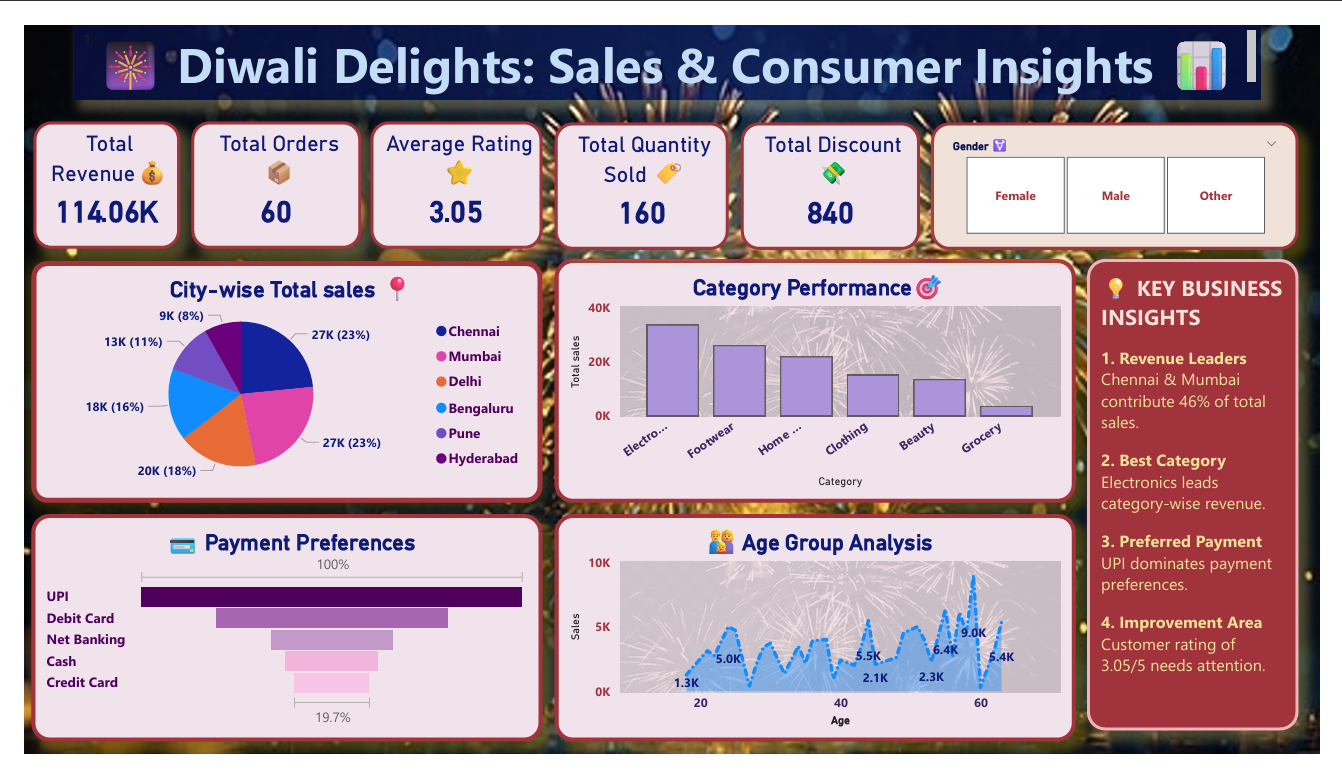

Layout of this report page (visuals, bound fields, positions):
{"tool":"powerbi","page":{"name":"Page 1","canvas":[1280,720],"ordinal":0},"visuals":[{"type":"textbox","box":[48.7,0,1173.4,74.4],"z":0},{"type":"card","title":"Total Revenue💰 ","fields":{"Values":["Sum(Diwali_Ecom_data.Total_Bill)"]},"box":[9.5,94.7,144.8,125.9],"z":1000},{"type":"card","title":"Total Orders 📦","fields":{"Values":["Count(Diwali_Ecom_data.Order_ID)"]},"box":[165.1,94.7,167.8,125.9],"z":2000},{"type":"card","title":"Average Rating ⭐","fields":{"Values":["Avg(Diwali_Ecom_data.Rating)"]},"box":[342.4,94.7,169.2,125.9],"z":3000},{"type":"pieChart","title":"City-wise Total sales 📍","fields":{"Category":["Diwali_Ecom_data.City"],"Y":["Sum(Diwali_Ecom_data.Total_Bill)"]},"box":[6.8,232.8,504.8,239.5],"z":4000},{"type":"funnel","title":"💳 Payment Preferences","fields":{"Category":["Diwali_Ecom_data.Payment_Mode"],"Y":["Sum(Diwali_Ecom_data.Total_Bill)"]},"box":[6.8,483.1,504.8,224.7],"z":5000},{"type":"clusteredColumnChart","title":"Category Performance🎯","fields":{"Y":["Sum(Diwali_Ecom_data.Total_Bill)"],"Category":["Diwali_Ecom_data.Category"]},"box":[523.7,231.4,515.6,240.9],"z":6000},{"type":"stackedAreaChart","title":"👨👩👧 Age Group Analysis","fields":{"Y":["Sum(Diwali_Ecom_data.Total_Bill)"],"Category":["Diwali_Ecom_data.Age"]},"box":[523.7,483.1,515.6,224.7],"z":7000},{"type":"slicer","fields":{"Values":["Diwali_Ecom_data.Gender"]},"box":[895.9,96.1,362.7,125.9],"z":8000},{"type":"card","title":"Total Quantity Sold 🏷️","fields":{"Values":["Sum(Diwali_Ecom_data.Quantity)"]},"box":[523.7,96.1,171.9,125.9],"z":9000},{"type":"card","title":"Total Discount 💸 ","fields":{"Values":["Sum(Diwali_Ecom_data.Discount)"]},"box":[707.8,96.1,177.3,125.9],"z":10000},{"type":"textbox","box":[1050.2,231.4,208.4,465.6],"z":11000}]}

Visuals, with their boxes in screenshot pixels (x1, y1, x2, y2), scaled from the page's 1280x720 canvas onto the 1342x773 screenshot:
textbox: (left=51, top=0, right=1281, bottom=80)
"Total Revenue💰 " card: (left=10, top=102, right=162, bottom=237)
"Total Orders 📦" card: (left=173, top=102, right=349, bottom=237)
"Average Rating ⭐" card: (left=359, top=102, right=536, bottom=237)
"City-wise Total sales 📍" pieChart: (left=7, top=250, right=536, bottom=507)
"💳 Payment Preferences" funnel: (left=7, top=519, right=536, bottom=760)
"Category Performance🎯" clusteredColumnChart: (left=549, top=248, right=1090, bottom=507)
"👨👩👧 Age Group Analysis" stackedAreaChart: (left=549, top=519, right=1090, bottom=760)
slicer - Diwali_Ecom_data.Gender: (left=939, top=103, right=1320, bottom=238)
"Total Quantity Sold 🏷️" card: (left=549, top=103, right=729, bottom=238)
"Total Discount 💸 " card: (left=742, top=103, right=928, bottom=238)
textbox: (left=1101, top=248, right=1320, bottom=748)
